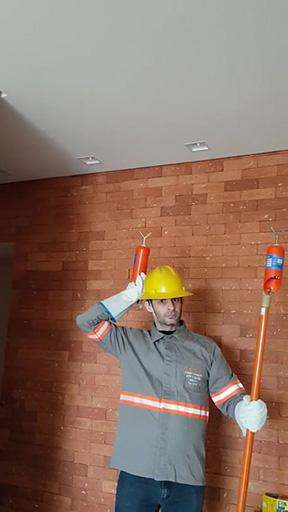Detector_Tensao_Contato: (261, 225, 288, 297), (130, 229, 153, 285)
Vara_Manobra: (236, 295, 275, 512)
